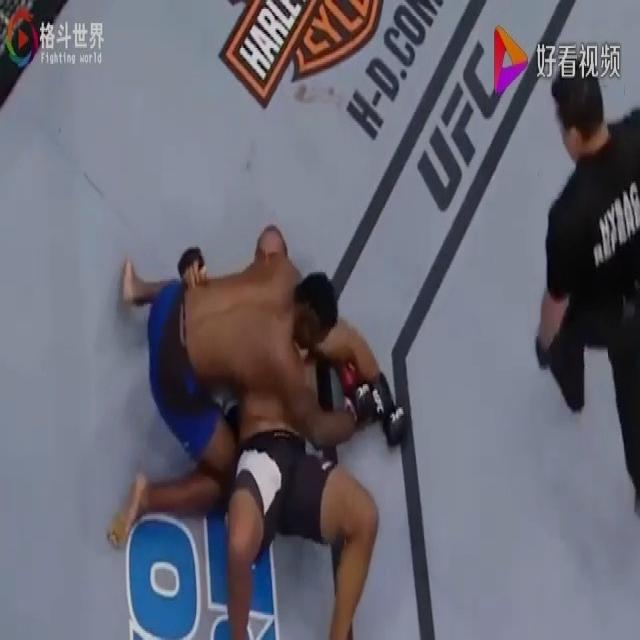fight: (105, 212, 412, 638)
